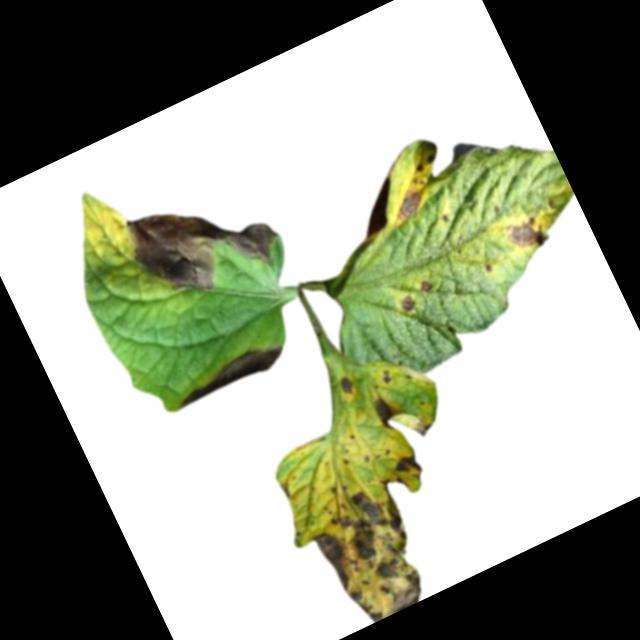Early_blight: (117, 163, 289, 316), (302, 475, 440, 630), (169, 336, 289, 417), (385, 178, 435, 225), (501, 210, 548, 257), (368, 391, 401, 433), (391, 447, 427, 484), (336, 370, 357, 395), (397, 290, 419, 313), (278, 479, 294, 501), (378, 368, 395, 387), (417, 274, 433, 291)
